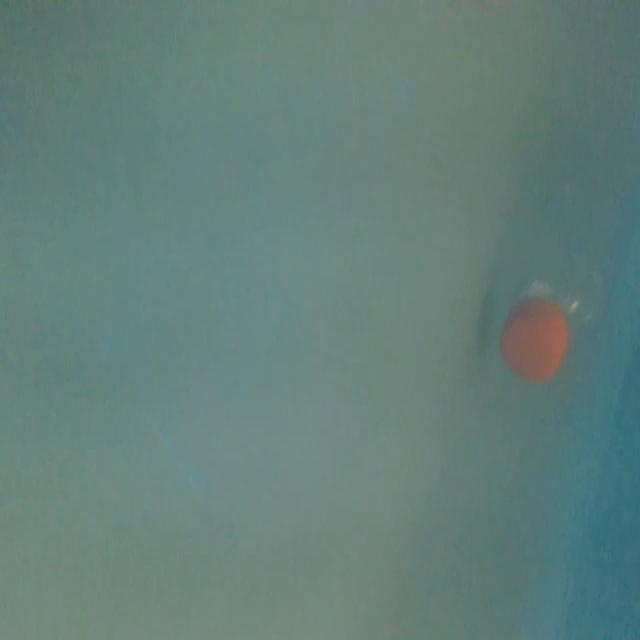plastic bottle: (499, 116, 634, 390)
